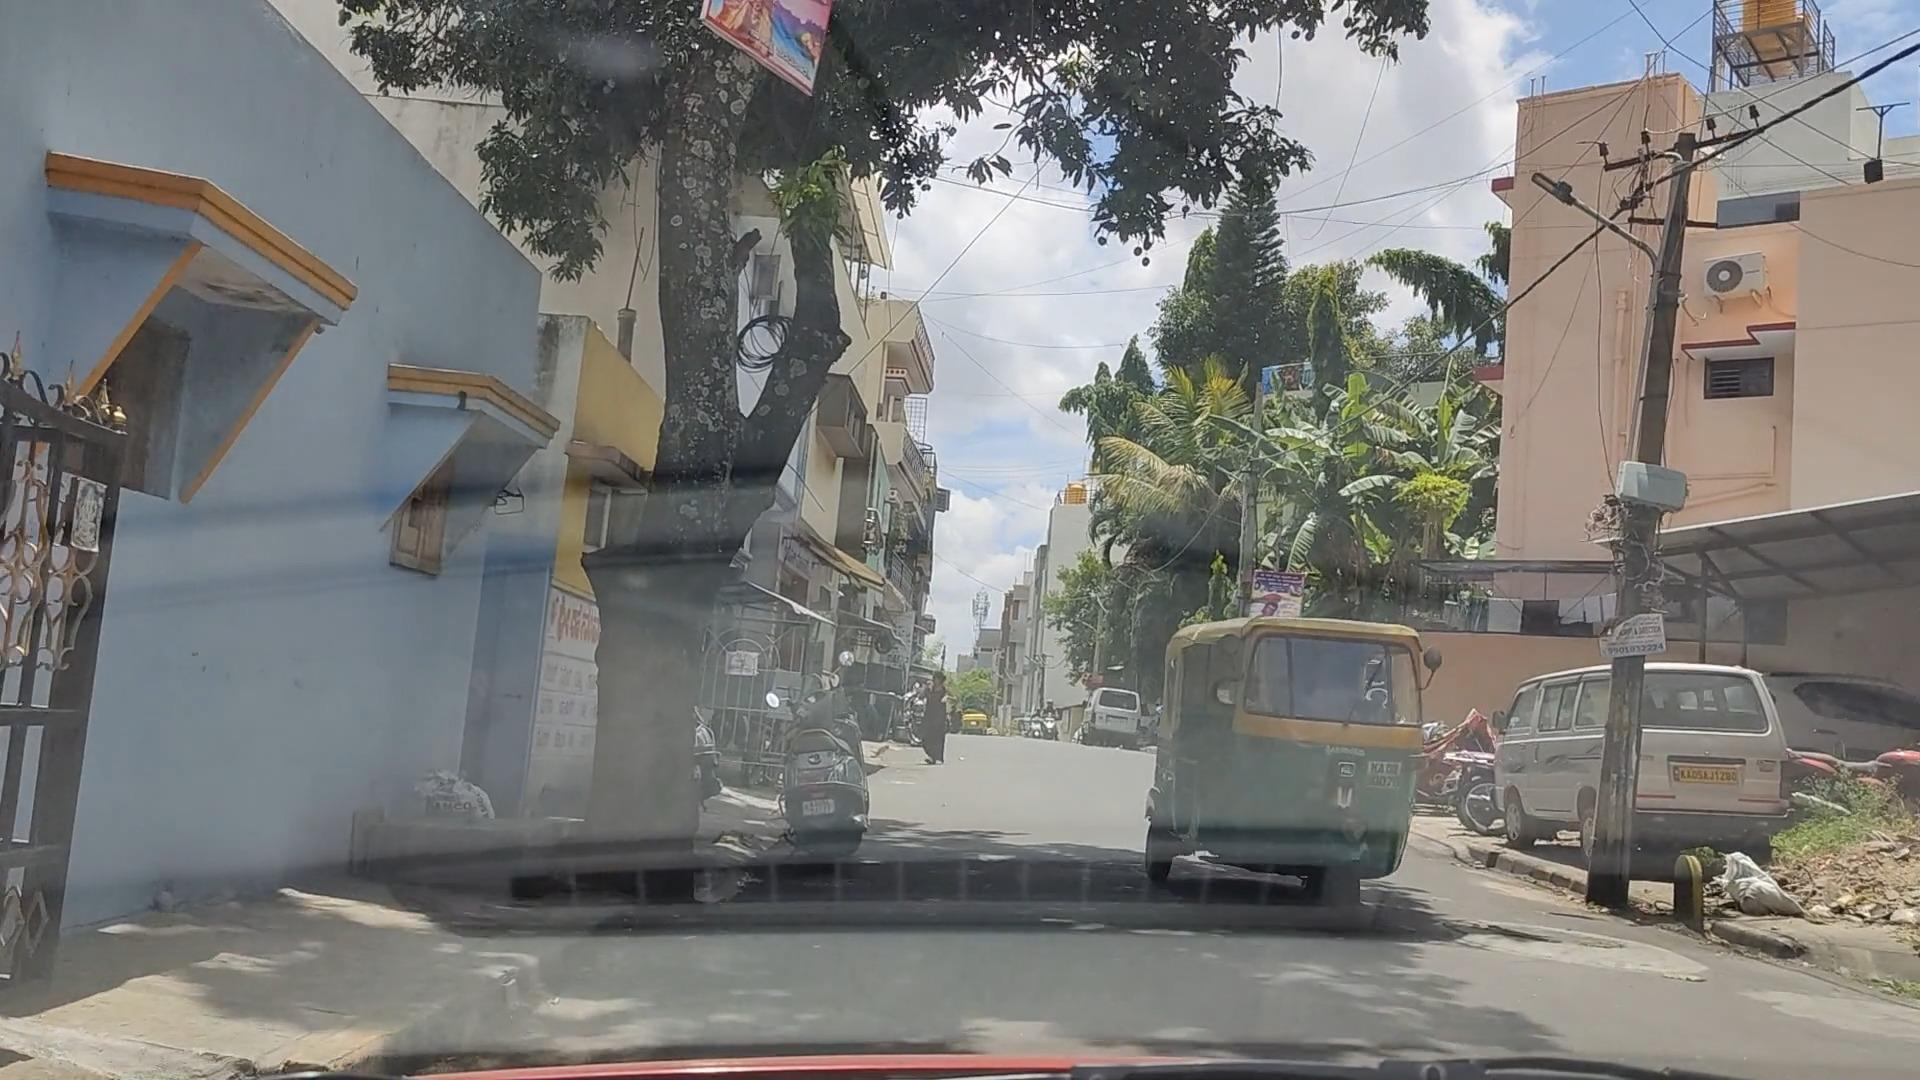LMV: (1160, 618, 1418, 902)
RoadDamages: (1461, 907, 1700, 984), (1709, 980, 1920, 1035)
